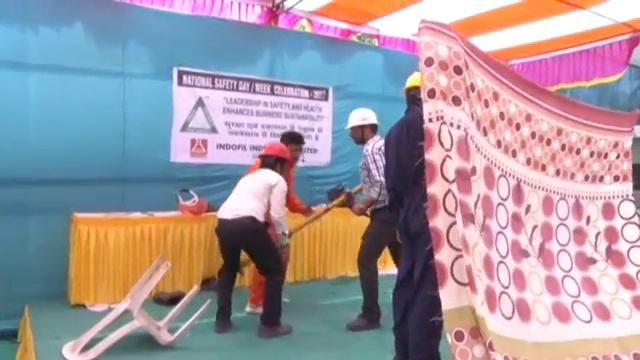helmet: (344, 107, 381, 131), (257, 139, 291, 161), (402, 70, 423, 89)
helmet_off: (282, 129, 308, 163)
helmet_on: (342, 107, 381, 146), (258, 138, 290, 176), (400, 69, 424, 111)
person: (385, 69, 447, 360), (212, 138, 297, 338), (340, 107, 394, 336), (245, 130, 309, 317)
